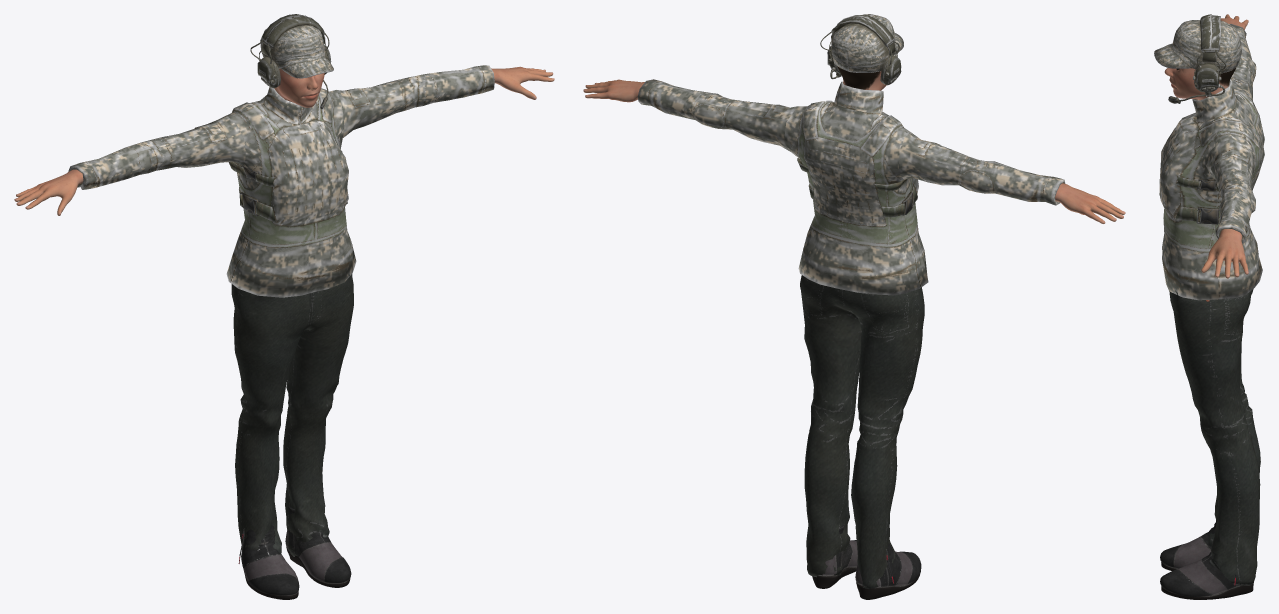
Rendered from enemigo2(OBg).obj.
3 renders of one model, left to right at view 1: azimuth 30°, elevation 25°; view 2: azimuth 150°, elevation 25°; view 3: azimuth 270°, elevation 25°, orthographic.
Visible parts, largest first — view 1: Tops, Bottoms, Shoes, Hats, Body; view 2: Tops, Bottoms, Hats, Body, Shoes; view 3: Tops, Bottoms, Hats, Shoes, Body.
Boxes of the visible parts, x1=… form: Tops: x1=68, y1=65, x2=494, y2=297; Bottoms: x1=231, y1=274, x2=353, y2=556; Shoes: x1=238, y1=506, x2=351, y2=599; Hats: x1=250, y1=14, x2=333, y2=109; Body: x1=14, y1=66, x2=554, y2=215; Tops: x1=637, y1=79, x2=1065, y2=295; Bottoms: x1=800, y1=275, x2=924, y2=588; Hats: x1=820, y1=14, x2=903, y2=85; Body: x1=583, y1=66, x2=1125, y2=223; Shoes: x1=812, y1=524, x2=921, y2=599; Tops: x1=1159, y1=24, x2=1264, y2=300; Bottoms: x1=1169, y1=289, x2=1260, y2=585; Hats: x1=1154, y1=14, x2=1241, y2=103; Shoes: x1=1160, y1=520, x2=1253, y2=599; Body: x1=1164, y1=14, x2=1248, y2=278.
Size of the model in its own units: 179 by 179 by 31.99.
Materials: 5 (5 with a texture image).
